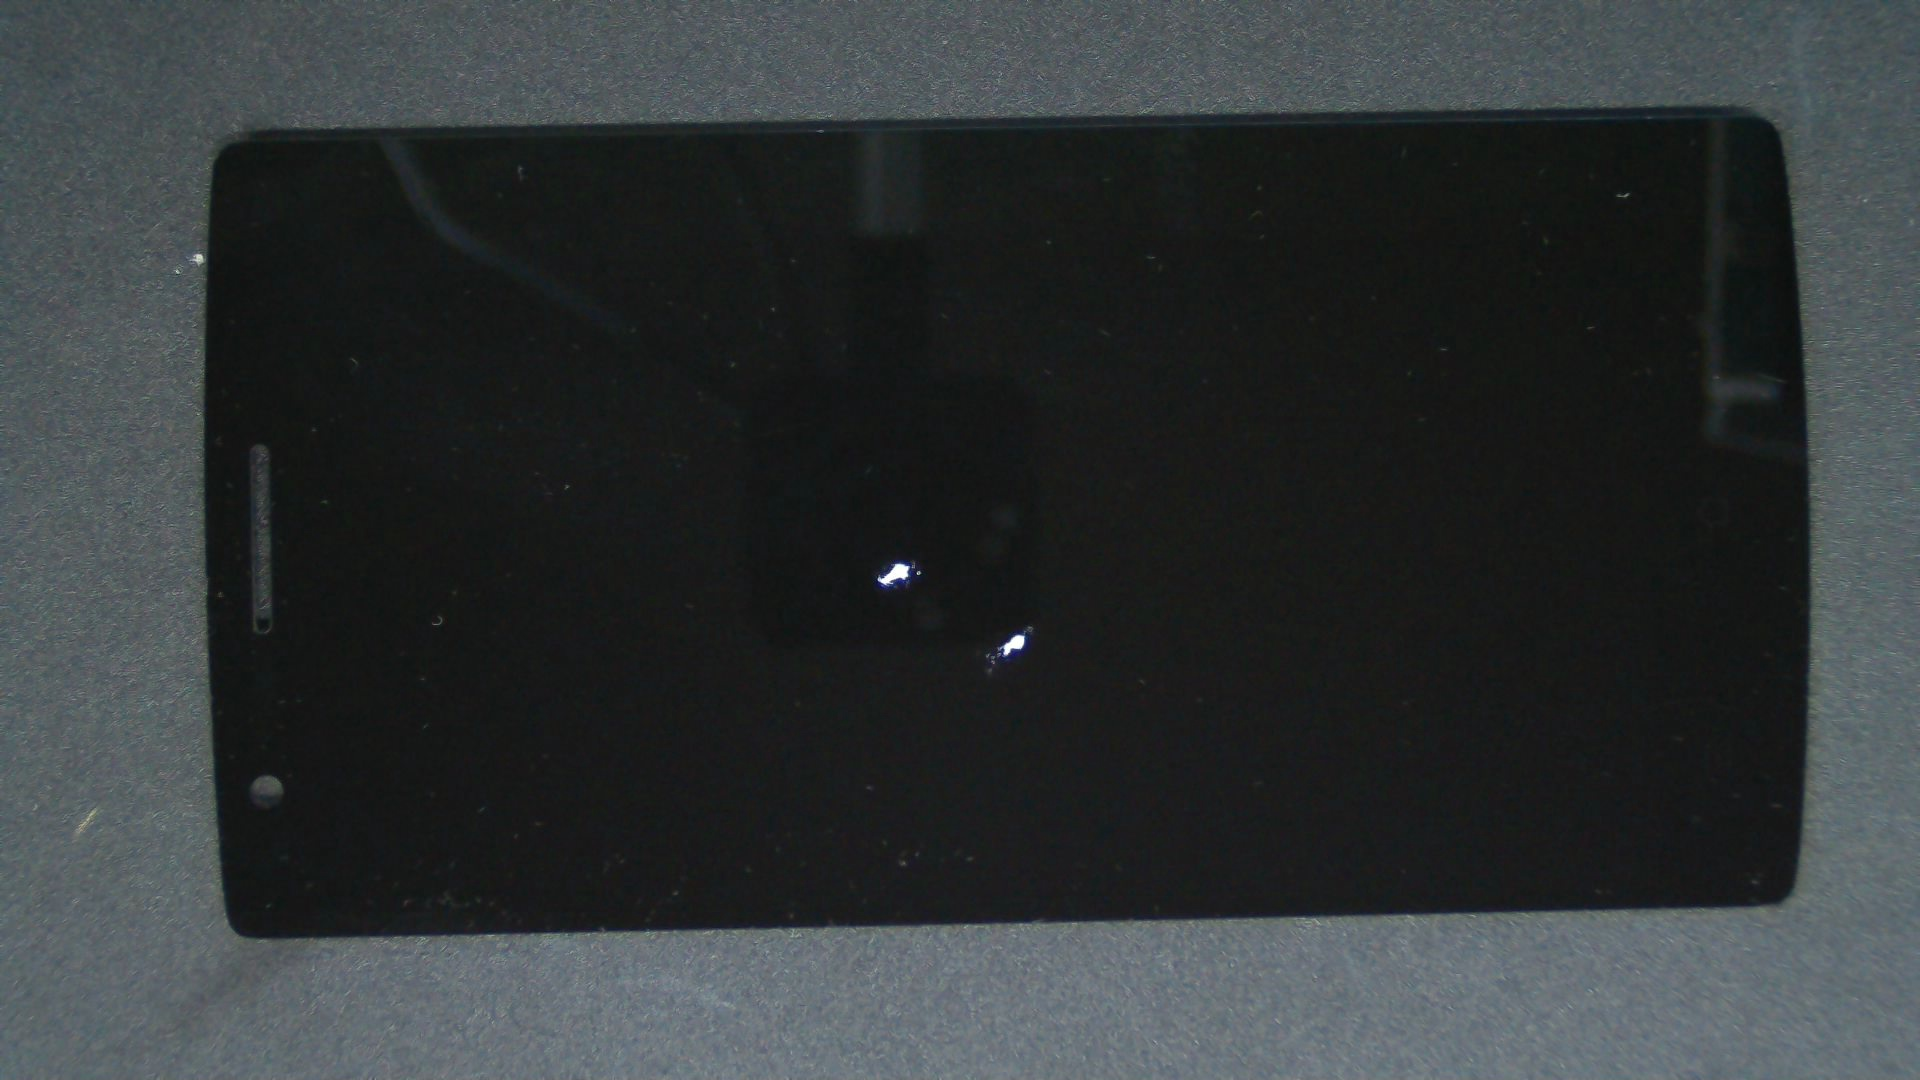oil: (514, 311, 1538, 939), (456, 280, 1367, 840)
